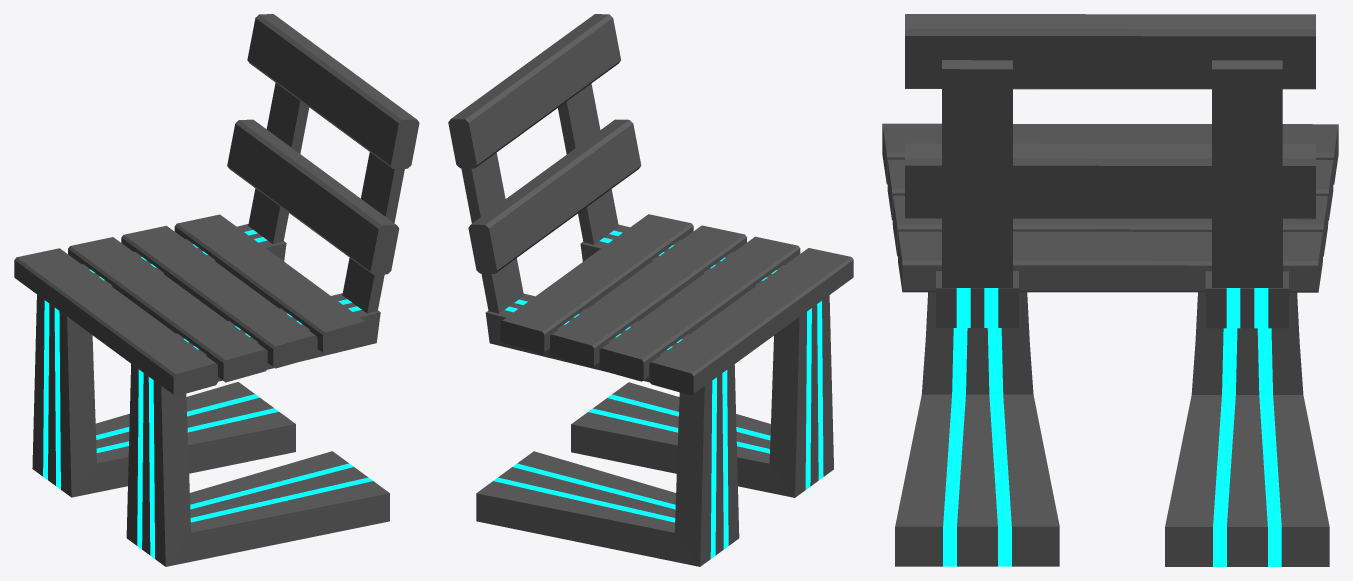
File: SingleSeatBench_01.fbx
3 renders of one model, left to right at view 1: azimuth 30°, elevation 25°; view 2: azimuth 150°, elevation 25°; view 3: azimuth 270°, elevation 25°, orthographic. The views are drawn at different scales.
Visible parts, largest first — view 1: SingleSeatBench_01; view 2: SingleSeatBench_01; view 3: SingleSeatBench_01.
Boxes of the visible parts, bbox=[...] form: SingleSeatBench_01: bbox=[14, 14, 419, 566]; SingleSeatBench_01: bbox=[448, 14, 853, 566]; SingleSeatBench_01: bbox=[882, 14, 1338, 566].
Size of the model in its own units: 234 by 340 by 249.
